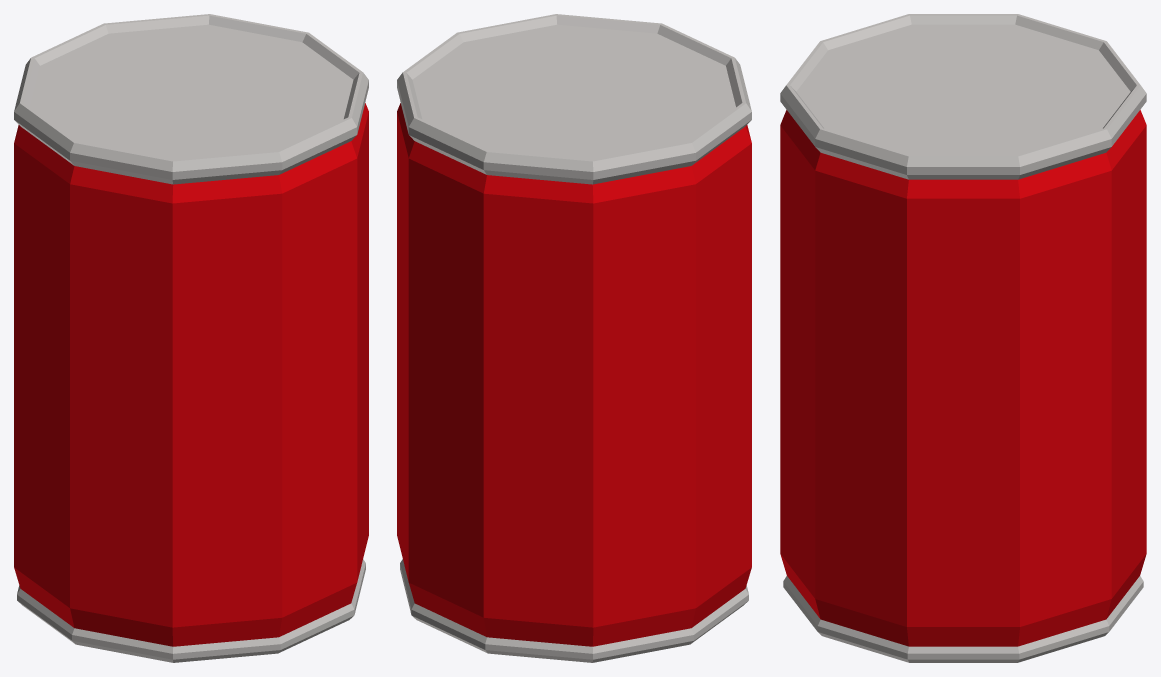
File: Lata_Refresco_Low_Poly.fbx
3 renders of one model, left to right at view 1: azimuth 30°, elevation 25°; view 2: azimuth 150°, elevation 25°; view 3: azimuth 270°, elevation 25°, orthographic.
Visible parts, largest first — view 1: Cylinder; view 2: Cylinder; view 3: Cylinder.
Boxes of the visible parts, x1,y1,x2,y2 form: Cylinder: (14,14,368,662); Cylinder: (397,14,751,662); Cylinder: (780,14,1146,662).
Size of the model in its own units: 31.81 by 51.11 by 33.45.
